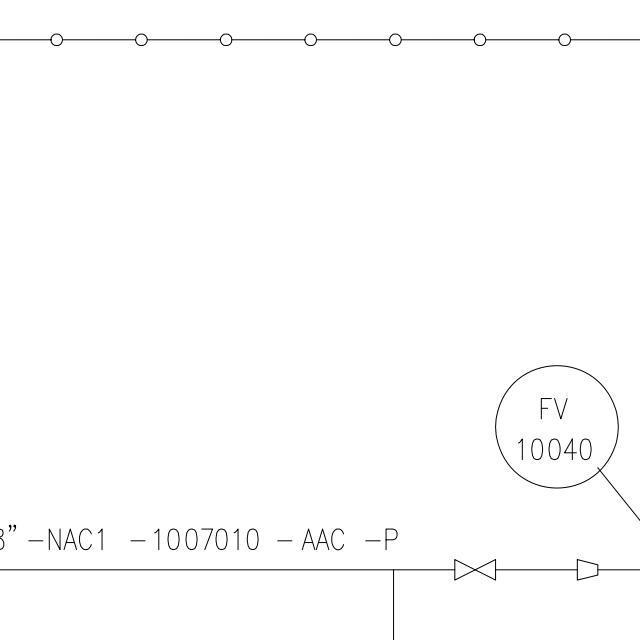GV: (449, 555, 501, 584)
SP: (574, 557, 601, 583)
